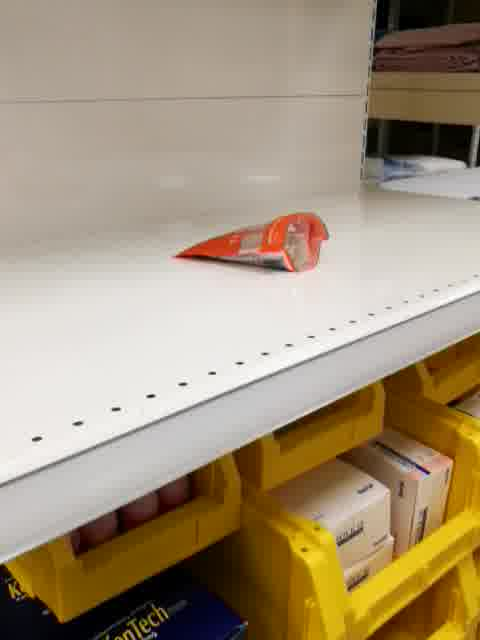whitechia: (169, 208, 332, 275)
